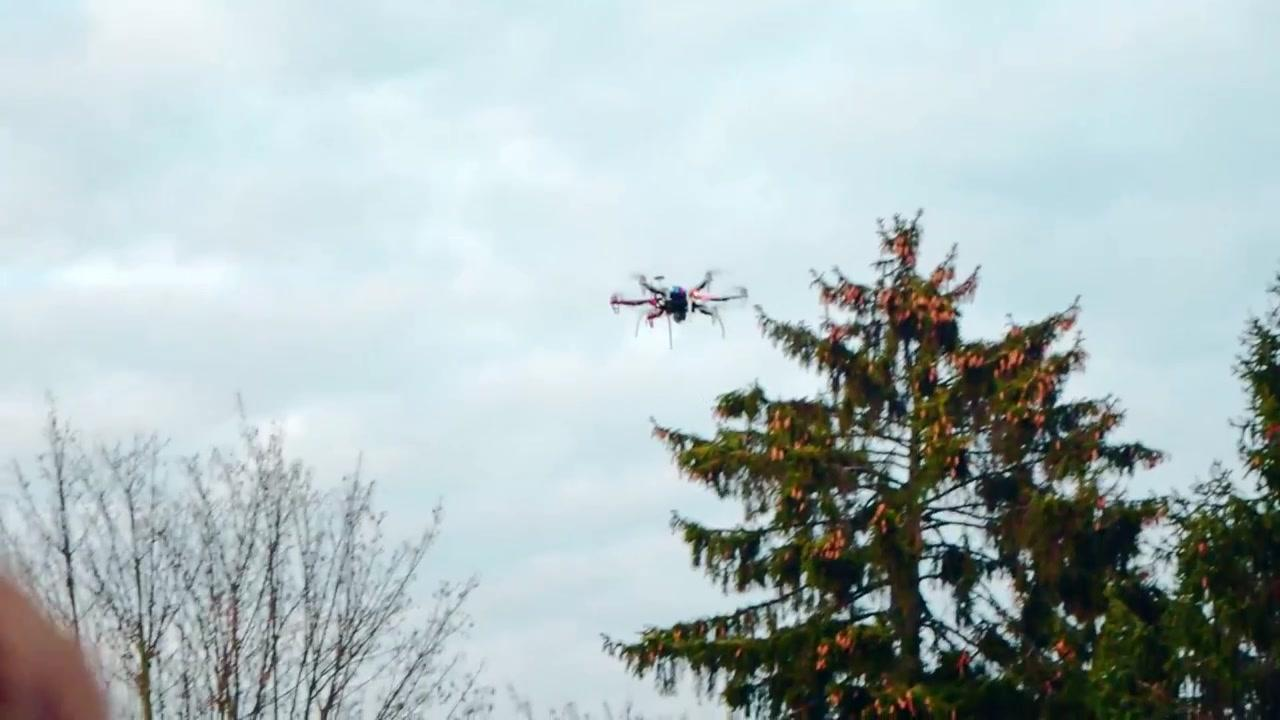UAV: (610, 270, 750, 351)
